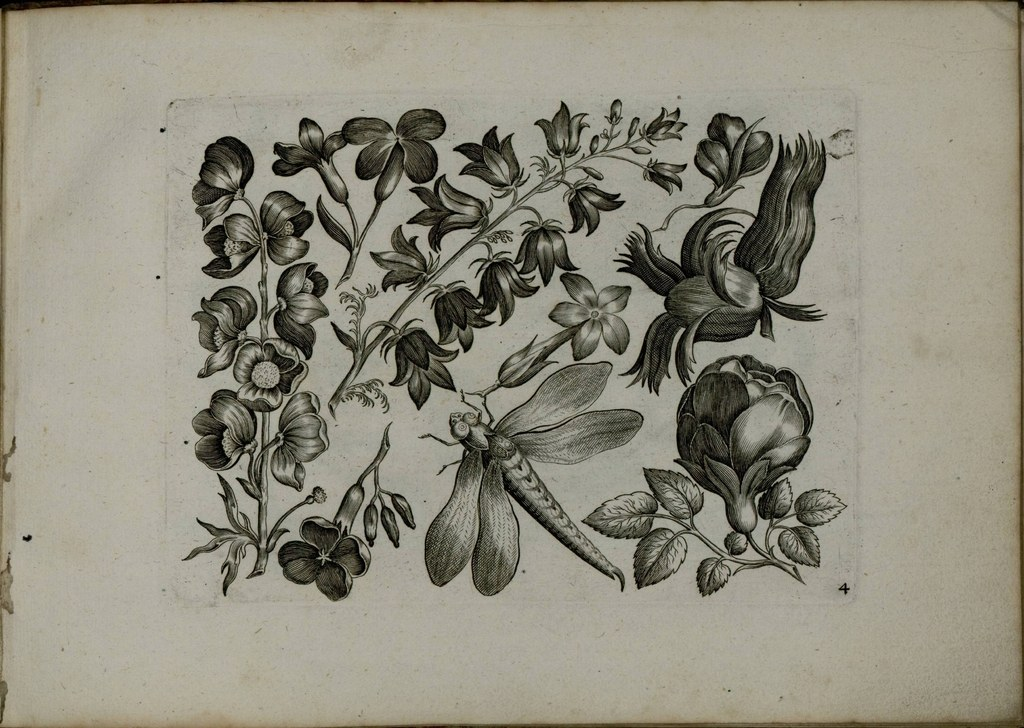insect: (419, 364, 645, 599), (607, 210, 825, 395), (664, 341, 815, 535), (342, 108, 446, 200), (276, 520, 374, 601), (545, 270, 631, 361), (689, 114, 770, 207), (405, 173, 488, 250), (269, 390, 333, 489), (273, 115, 346, 200), (388, 327, 459, 410), (193, 387, 257, 475), (190, 133, 253, 222), (193, 287, 254, 378), (230, 340, 309, 408), (274, 264, 330, 358), (454, 125, 524, 190), (260, 190, 316, 266), (372, 223, 430, 294), (199, 214, 262, 278), (477, 263, 540, 325), (440, 287, 499, 353), (516, 229, 579, 286), (535, 101, 591, 159), (565, 182, 624, 235), (639, 106, 687, 142)
